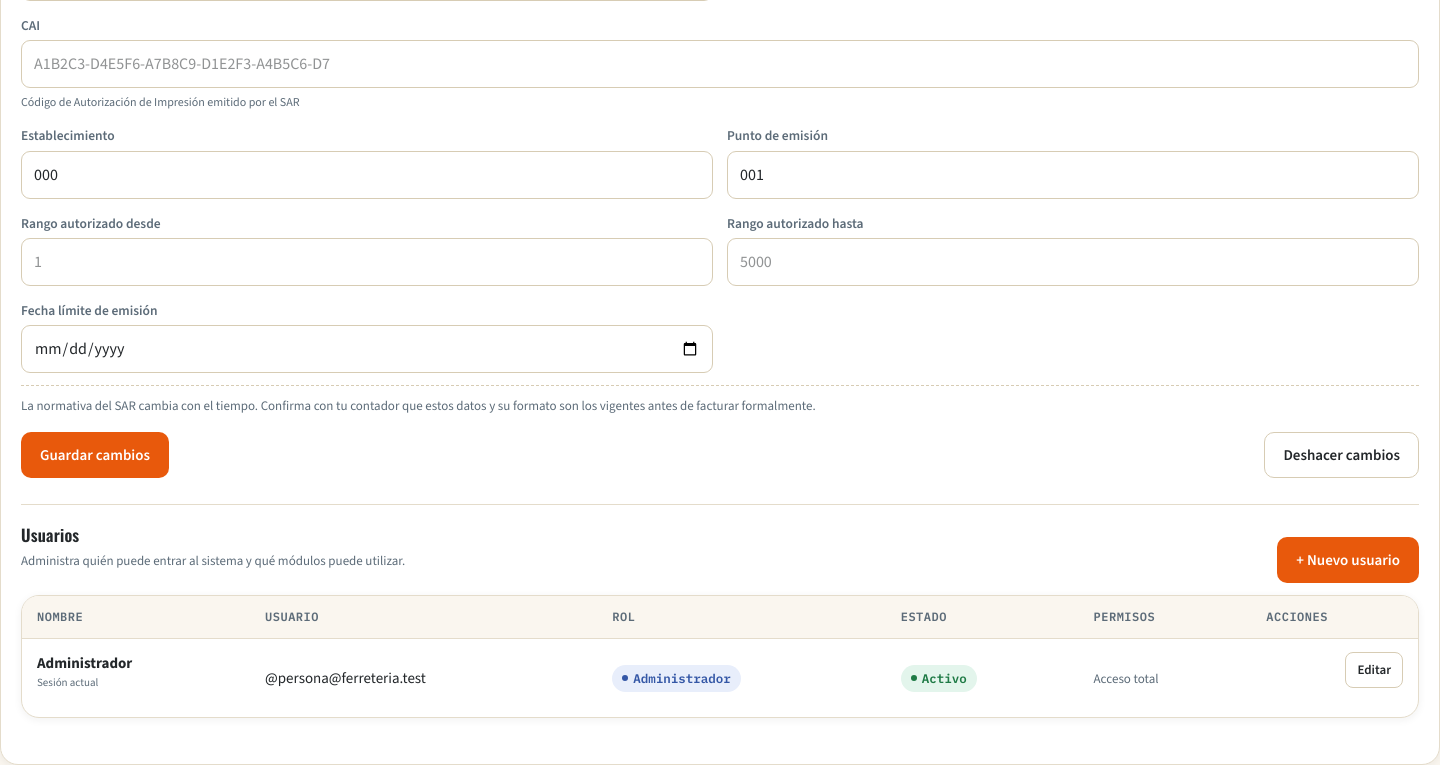
Test: Settings: usuarios › abre el formulario de usuario nuevo
(page scrolled)
Click the button "+ Nuevo usuario" at x=1348, y=560, box top-left (1277, 537), bottom-right (1419, 583)
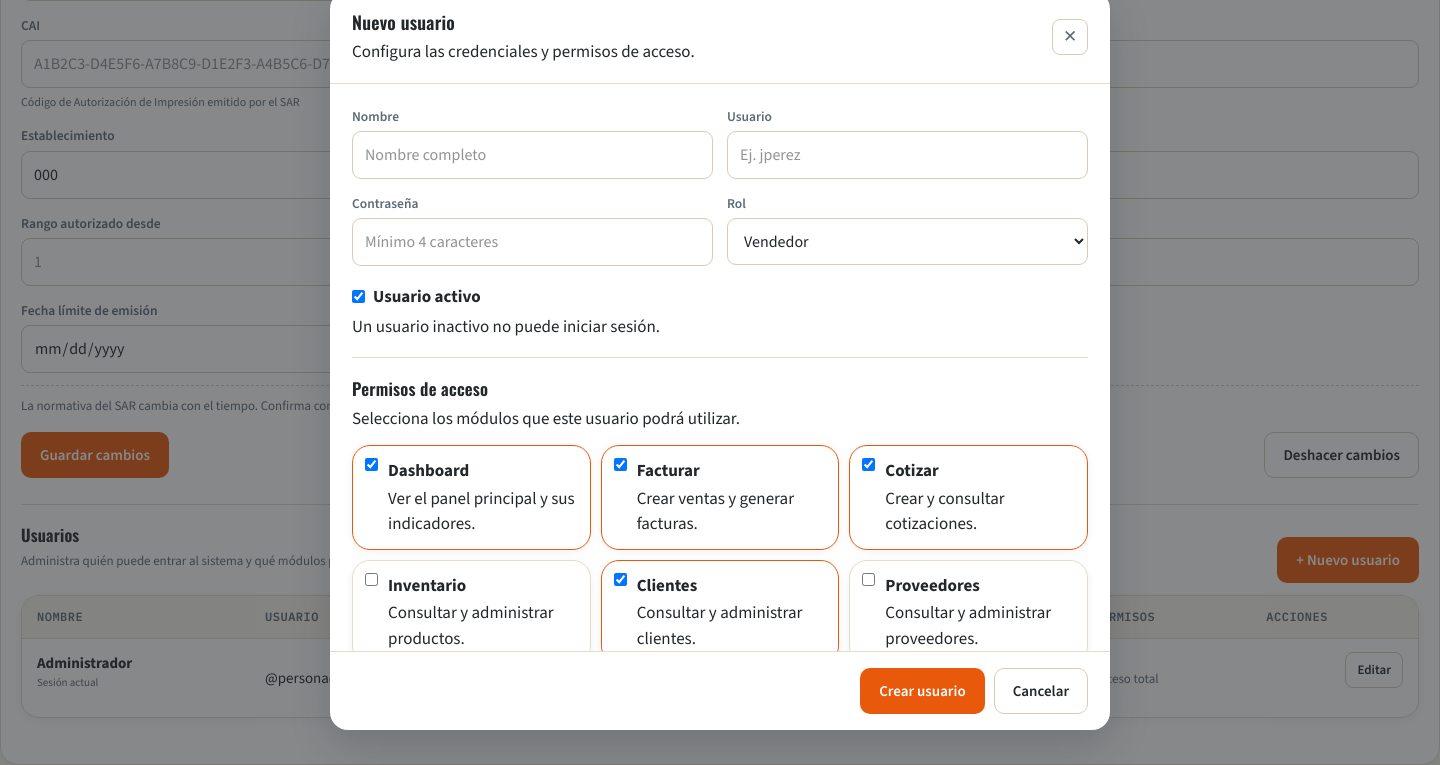
Expected: the heading "Nuevo usuario" is shown, top-left (352, 9), bottom-right (455, 35)
